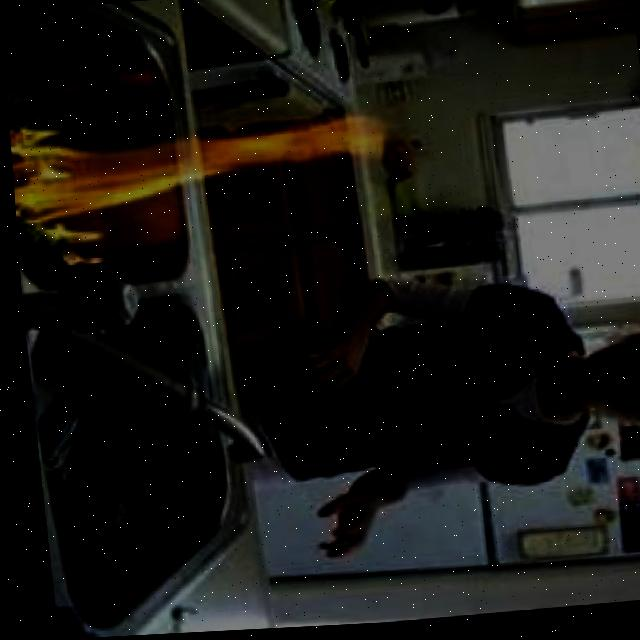Fire: (7, 98, 385, 223), (43, 214, 102, 269)
